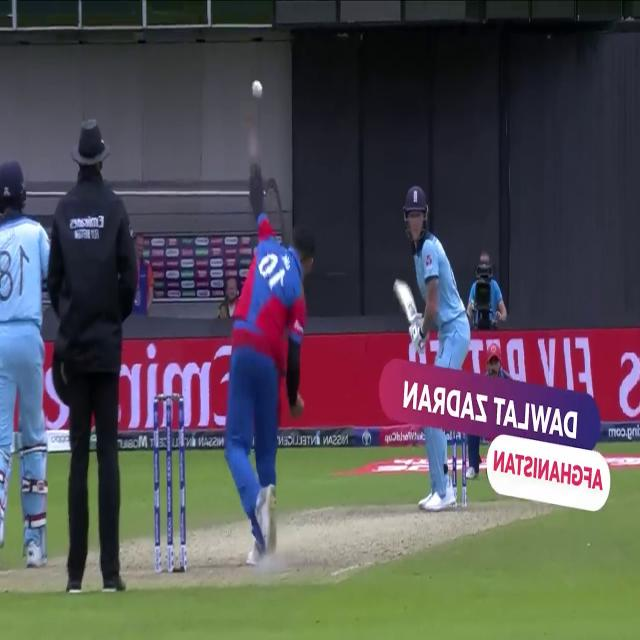ball: (250, 77, 264, 103)
